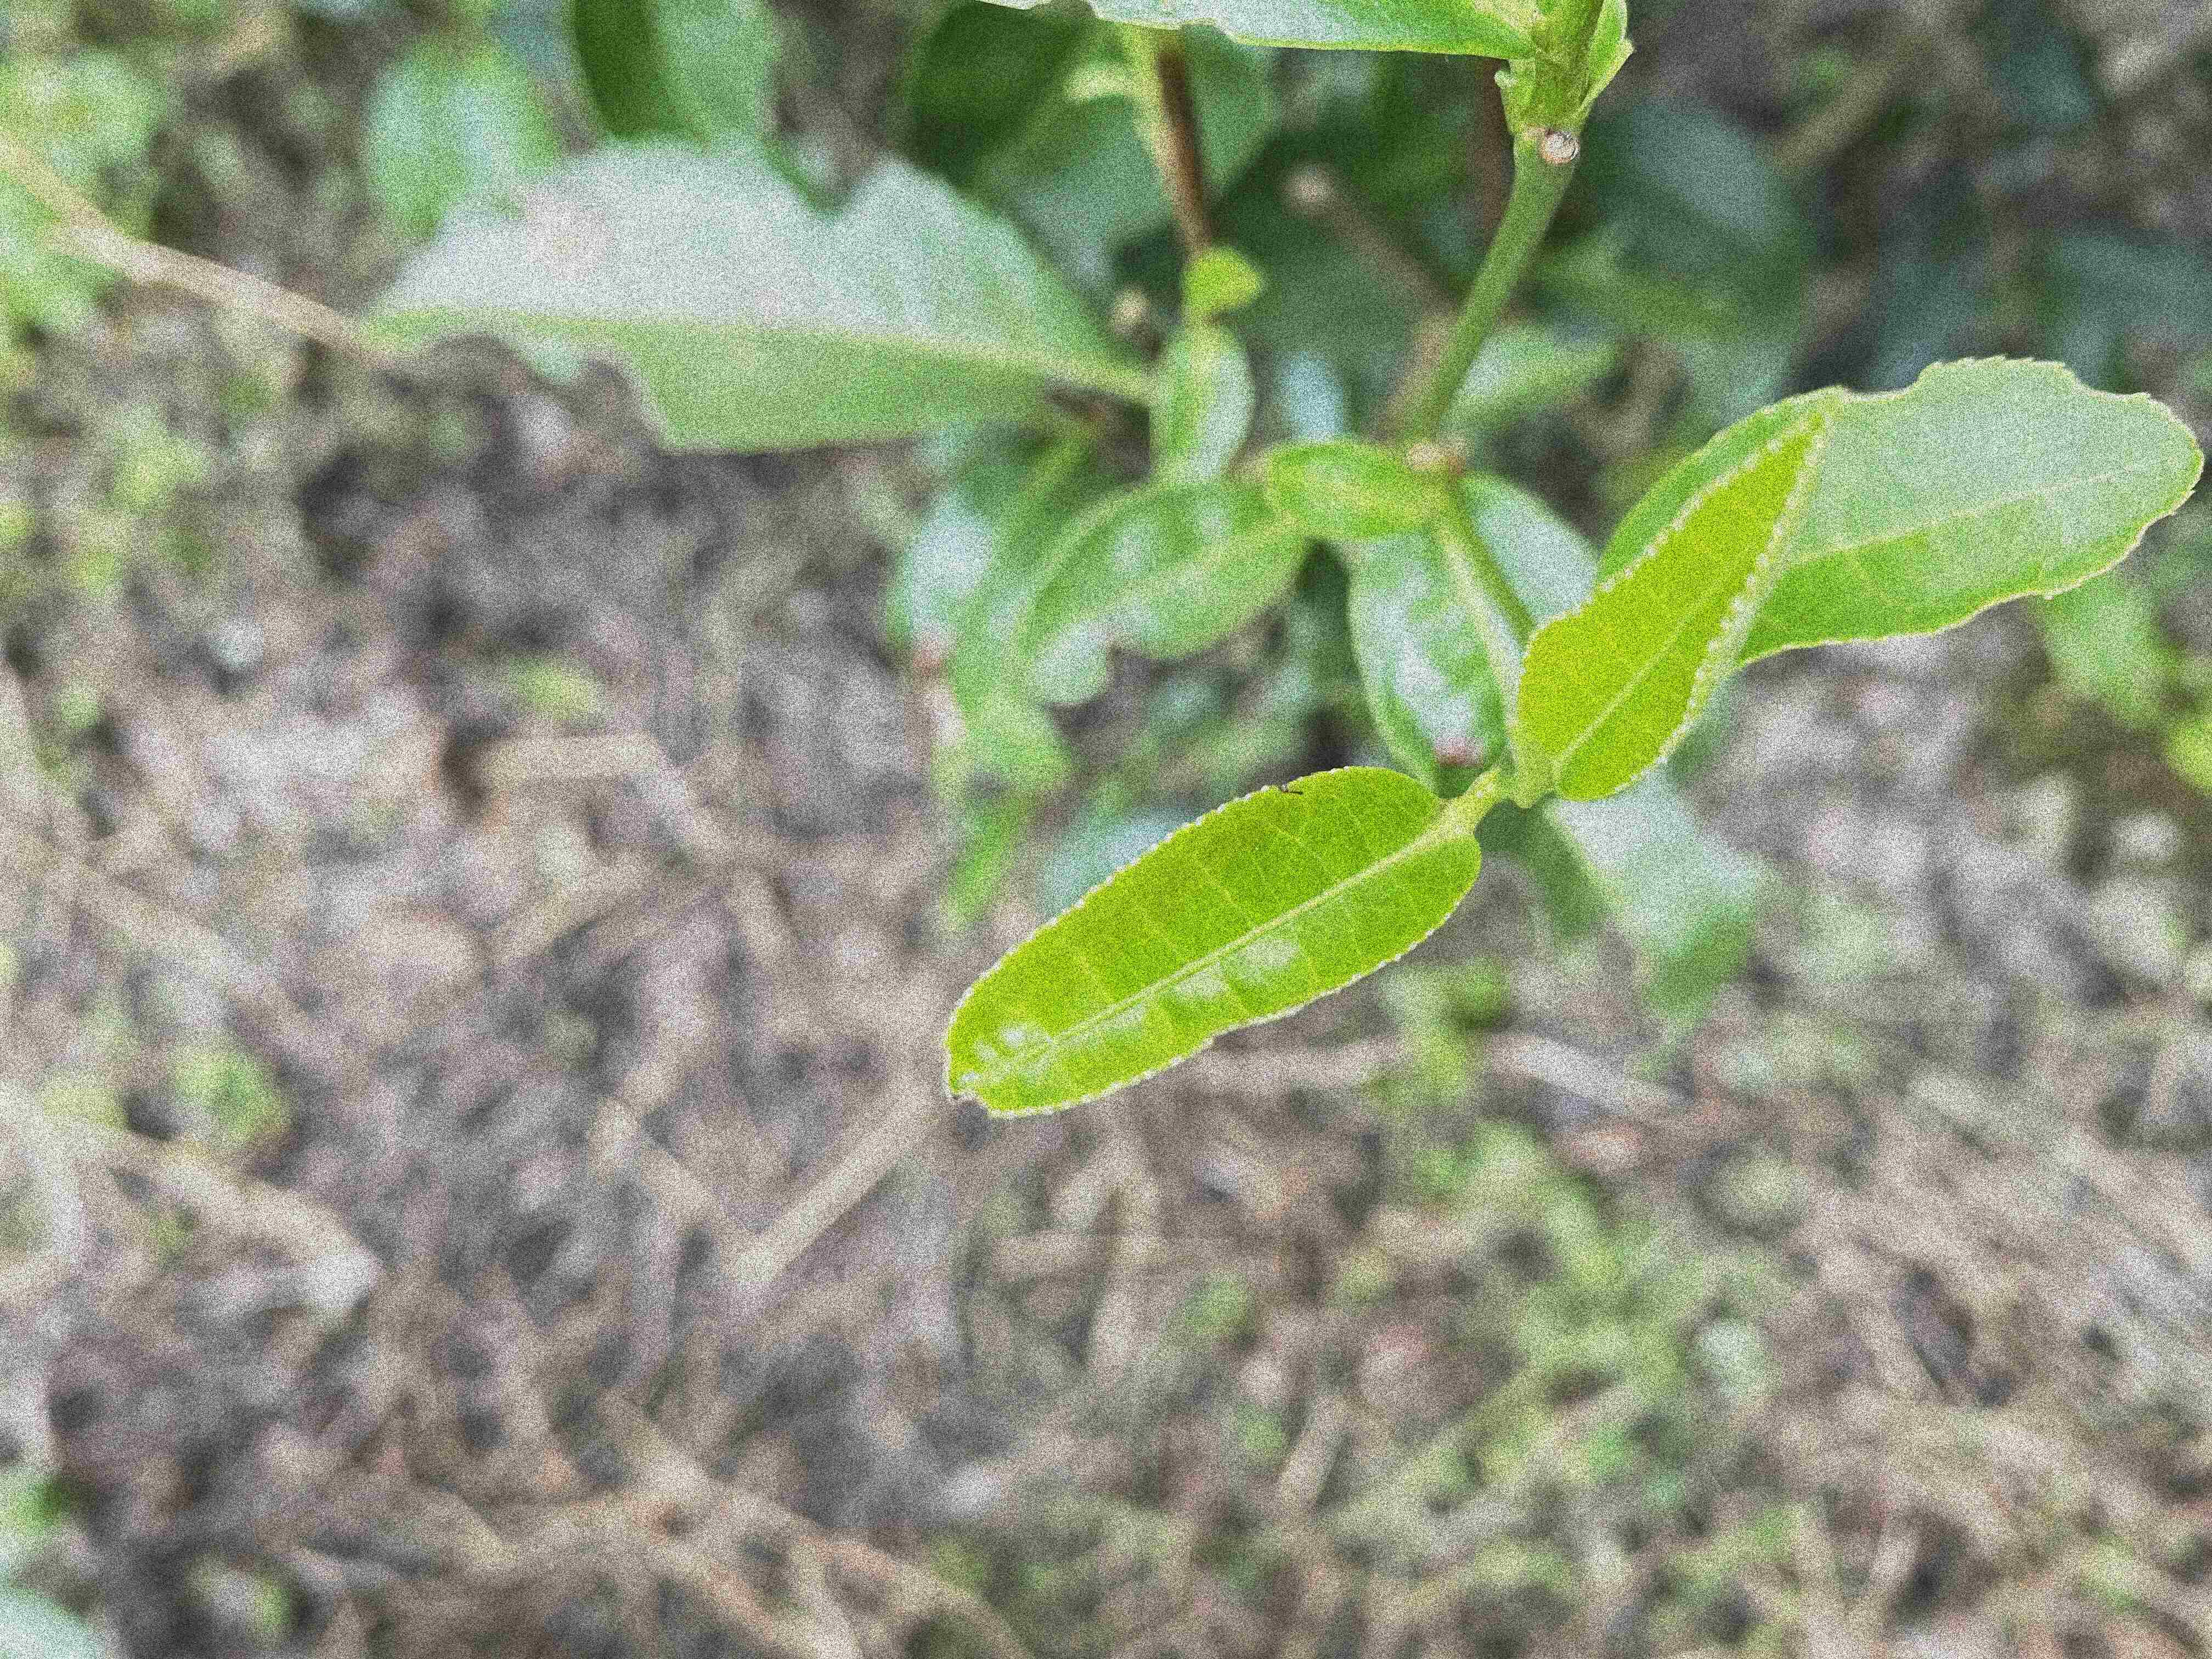chihuo_high: (1595, 354, 2207, 673)
healthy: (935, 763, 1482, 1122), (1508, 404, 1831, 800)
